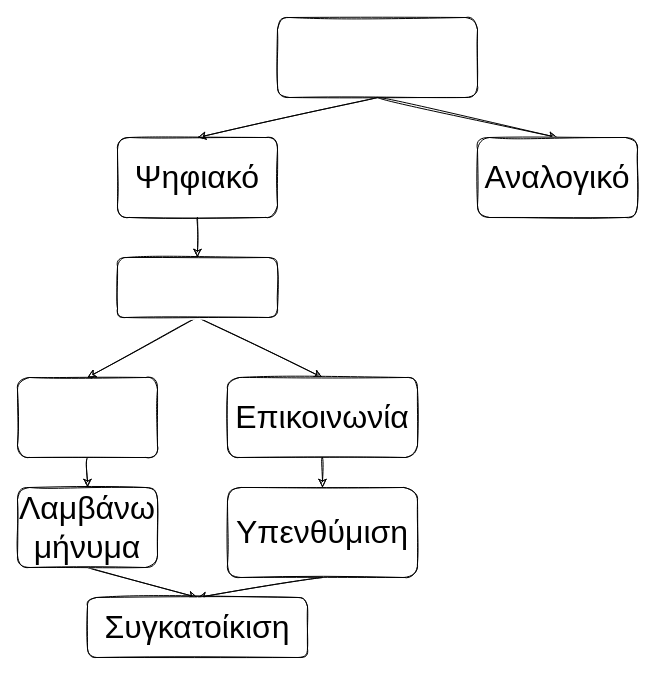
Image size: 655x675. Some labels were removed from this diagram. Each missing label, with the centre of its shape:
"Well-being" belongs at (197,287).
"Αφήνω μήνυμα" belongs at (87,417).
"Προϊόν" belongs at (377,57).
